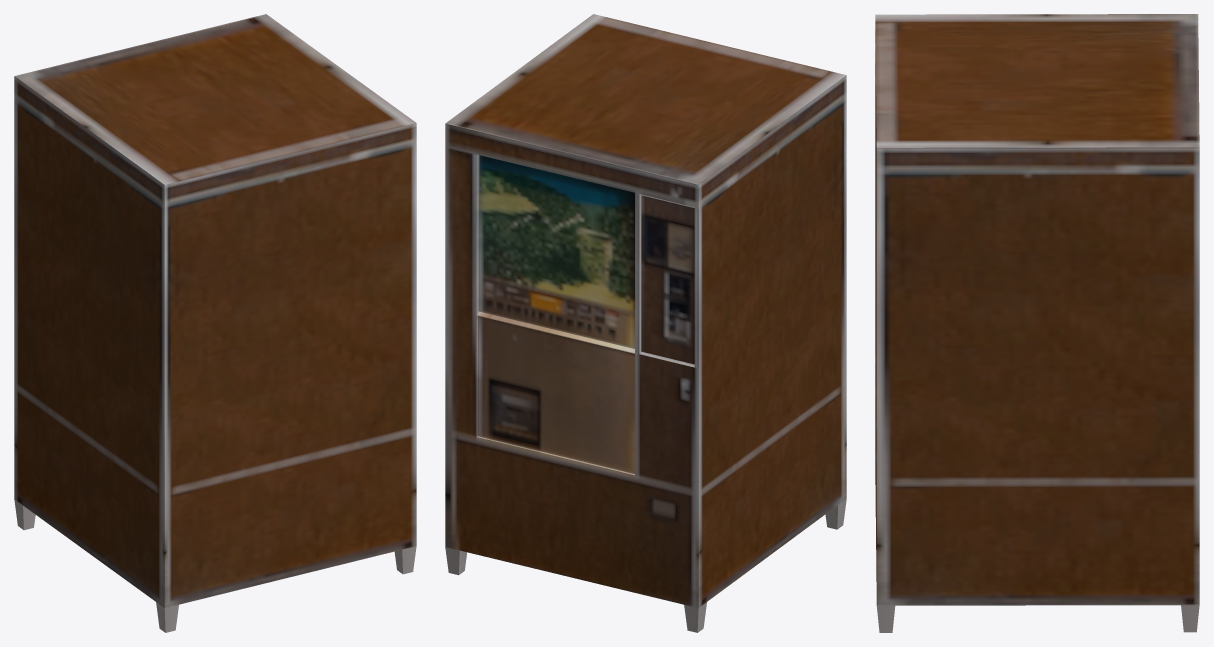
The model's file is coffe_machine.fbx.
3 views of the same model, side by side, from view 1: azimuth 30°, elevation 25°; view 2: azimuth 150°, elevation 25°; view 3: azimuth 270°, elevation 25° (orthographic). The views are drawn at different scales.
Visible parts, largest first — view 1: coffee_machine; view 2: coffee_machine; view 3: coffee_machine.
Part boxes in pixels (<box>): coffee_machine: <box>14,14,416,632</box>; coffee_machine: <box>445,14,846,632</box>; coffee_machine: <box>875,14,1199,632</box>.
Bounding box in the file's own units: 125 × 212 × 128.
